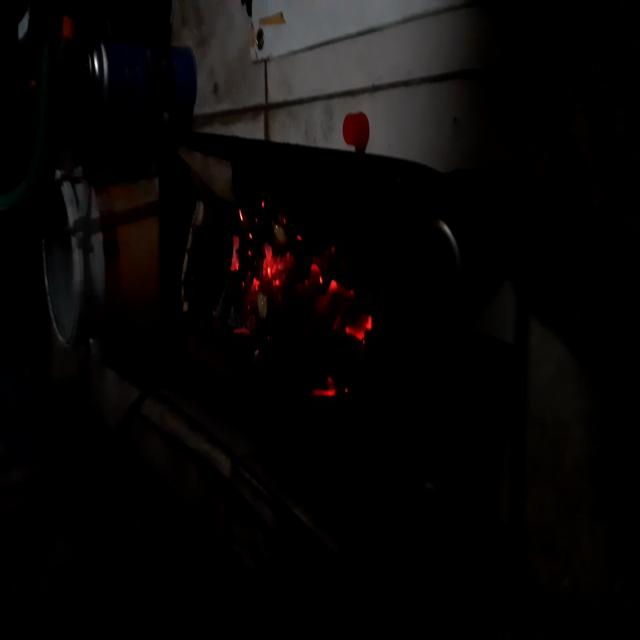Fire: (227, 202, 382, 415)
